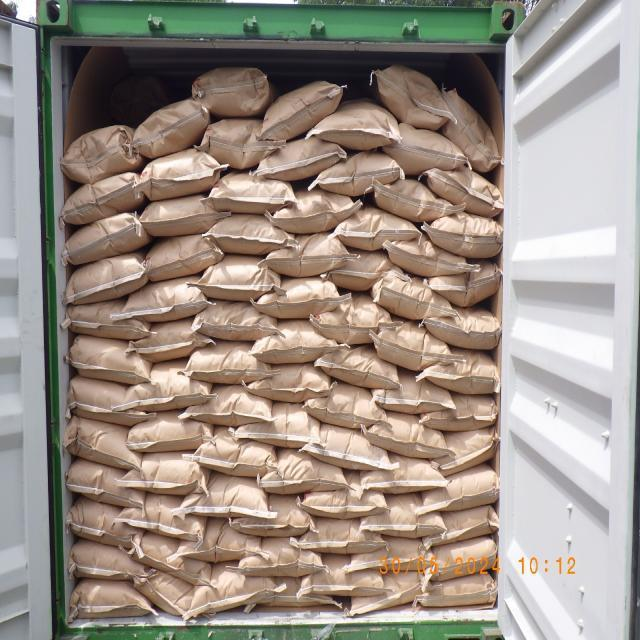gunny_bag: (184, 562, 276, 620), (374, 62, 452, 129), (258, 82, 340, 144), (442, 89, 502, 173), (132, 99, 214, 160), (57, 126, 140, 186), (381, 120, 469, 176), (120, 358, 214, 410), (132, 530, 216, 588), (60, 172, 146, 228), (63, 252, 148, 308), (63, 212, 151, 266), (308, 101, 400, 152), (138, 146, 222, 200), (266, 188, 360, 236), (64, 416, 144, 472), (199, 120, 285, 172), (374, 266, 458, 319), (312, 291, 394, 345), (66, 334, 154, 384), (177, 472, 270, 519), (191, 427, 276, 478), (304, 422, 394, 470), (419, 464, 502, 516), (70, 496, 144, 554), (424, 168, 506, 220), (66, 458, 146, 511), (374, 319, 454, 372), (254, 134, 346, 180), (190, 66, 271, 118), (263, 230, 354, 276), (235, 402, 324, 449), (365, 412, 452, 460), (259, 450, 347, 497), (119, 493, 207, 540), (209, 172, 298, 218), (194, 255, 281, 302), (70, 377, 150, 428), (173, 520, 263, 565), (315, 152, 403, 198), (125, 408, 213, 454), (126, 317, 212, 364), (304, 383, 388, 431), (142, 233, 224, 282), (332, 206, 419, 252), (315, 343, 402, 389), (347, 570, 432, 617), (252, 275, 342, 319), (424, 210, 506, 258), (184, 341, 273, 385), (123, 278, 210, 323), (359, 492, 444, 538), (428, 260, 506, 310), (252, 320, 340, 364), (62, 300, 150, 344), (192, 297, 278, 342), (420, 347, 502, 394), (229, 493, 316, 537), (184, 386, 274, 428), (204, 213, 296, 254), (121, 454, 210, 496), (374, 179, 457, 224), (372, 368, 456, 412), (245, 362, 334, 403), (422, 536, 498, 584), (358, 454, 448, 494), (421, 308, 502, 352), (138, 196, 220, 239), (72, 538, 152, 582), (384, 236, 472, 276), (422, 502, 498, 548), (238, 538, 325, 578), (300, 556, 386, 596), (430, 427, 498, 477), (71, 576, 155, 616), (296, 520, 388, 556), (132, 568, 196, 619), (248, 576, 340, 611), (347, 538, 436, 574), (418, 394, 497, 434), (324, 251, 394, 295), (417, 572, 498, 609), (299, 488, 387, 520), (70, 402, 149, 428)
